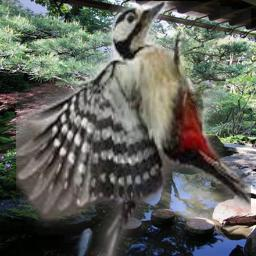Woodpecker: (16, 1, 251, 256)
